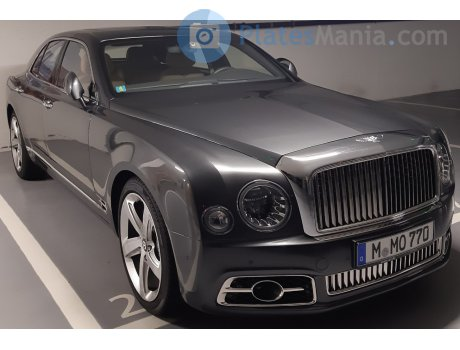License Plates: (364, 233, 435, 252)
